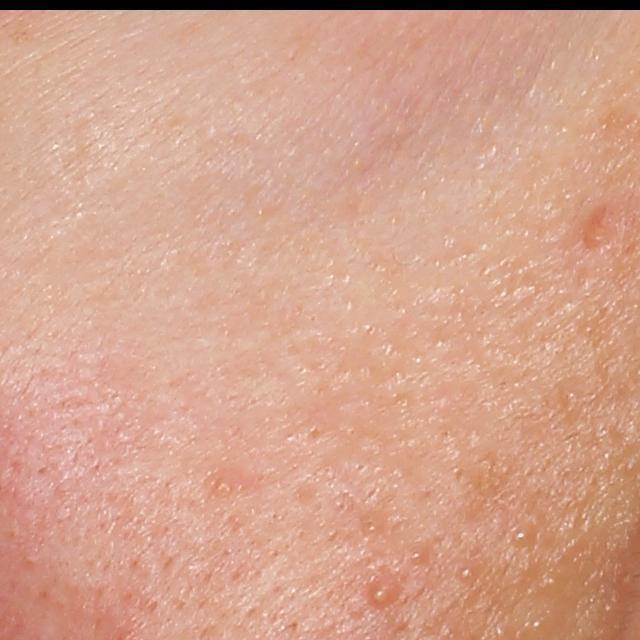comedo: (451, 561, 478, 584), (512, 525, 536, 548), (215, 475, 237, 497), (409, 547, 428, 564), (492, 621, 507, 638)
papule: (573, 198, 618, 254)
pustule: (362, 573, 405, 607)
